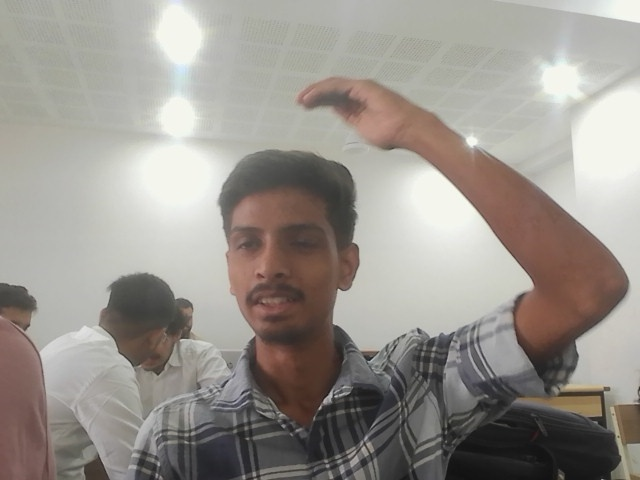light_off: (547, 233, 571, 280)
light_on: (560, 80, 639, 127), (443, 115, 493, 162), (615, 5, 636, 25)
person: (41, 273, 175, 479), (132, 288, 234, 421), (0, 281, 57, 479)
